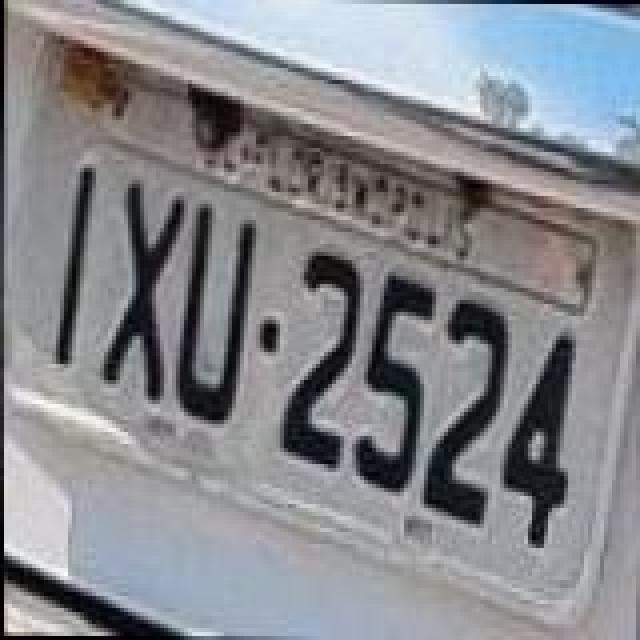1: (50, 166, 98, 370)
2: (420, 296, 508, 524), (278, 248, 366, 472)
4: (498, 332, 574, 548)
5: (348, 272, 436, 500)
U: (174, 204, 262, 432)
X: (104, 178, 188, 406)
